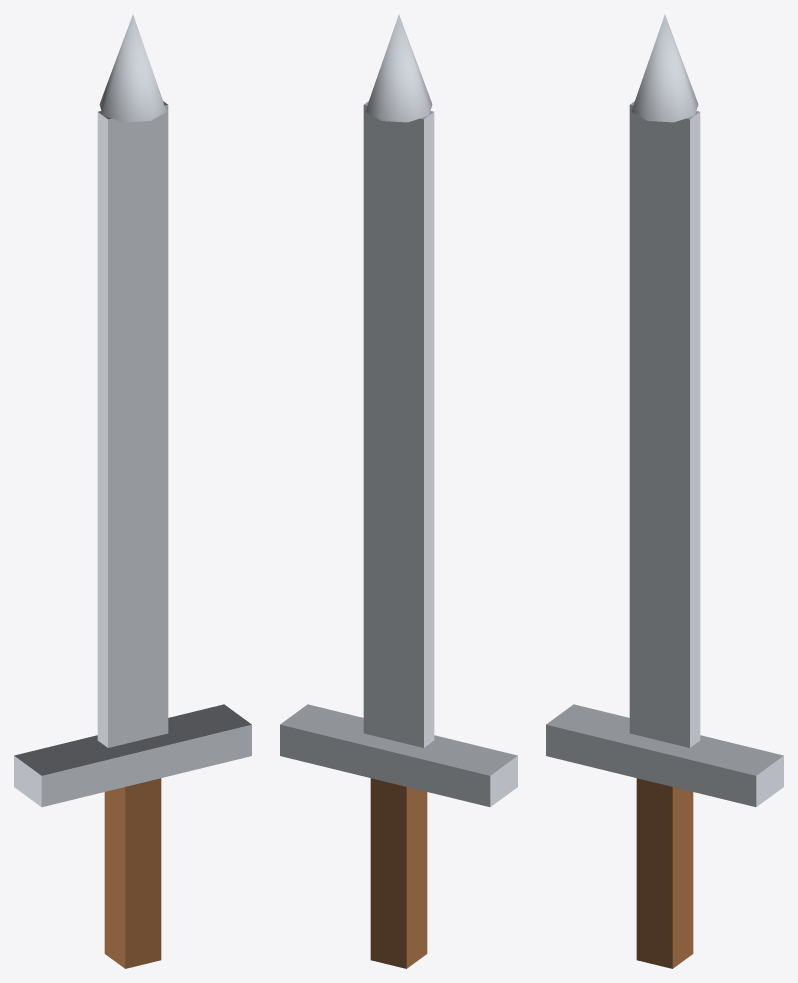
Rendered from espada.obj.
3 renders of one model, left to right at view 1: azimuth 30°, elevation 25°; view 2: azimuth 150°, elevation 25°; view 3: azimuth 330°, elevation 25°, orthographic.
Visible parts, largest first — view 1: lâmina, guarda, cabo, ponta; view 2: lâmina, guarda, cabo, ponta; view 3: lâmina, guarda, cabo, ponta.
Part boxes in pixels (x1,y1,x2,y2): lâmina: (97, 101, 168, 747); guarda: (14, 704, 251, 806); cabo: (104, 778, 161, 968); ponta: (99, 14, 166, 122); lâmina: (363, 101, 434, 747); guarda: (280, 704, 517, 806); cabo: (370, 778, 427, 968); ponta: (365, 14, 432, 122); lâmina: (629, 101, 700, 747); guarda: (546, 704, 783, 806); cabo: (636, 778, 693, 968); ponta: (631, 14, 698, 122).
Bounding box in the file's own units: 0.35 × 1.5 × 0.1.
